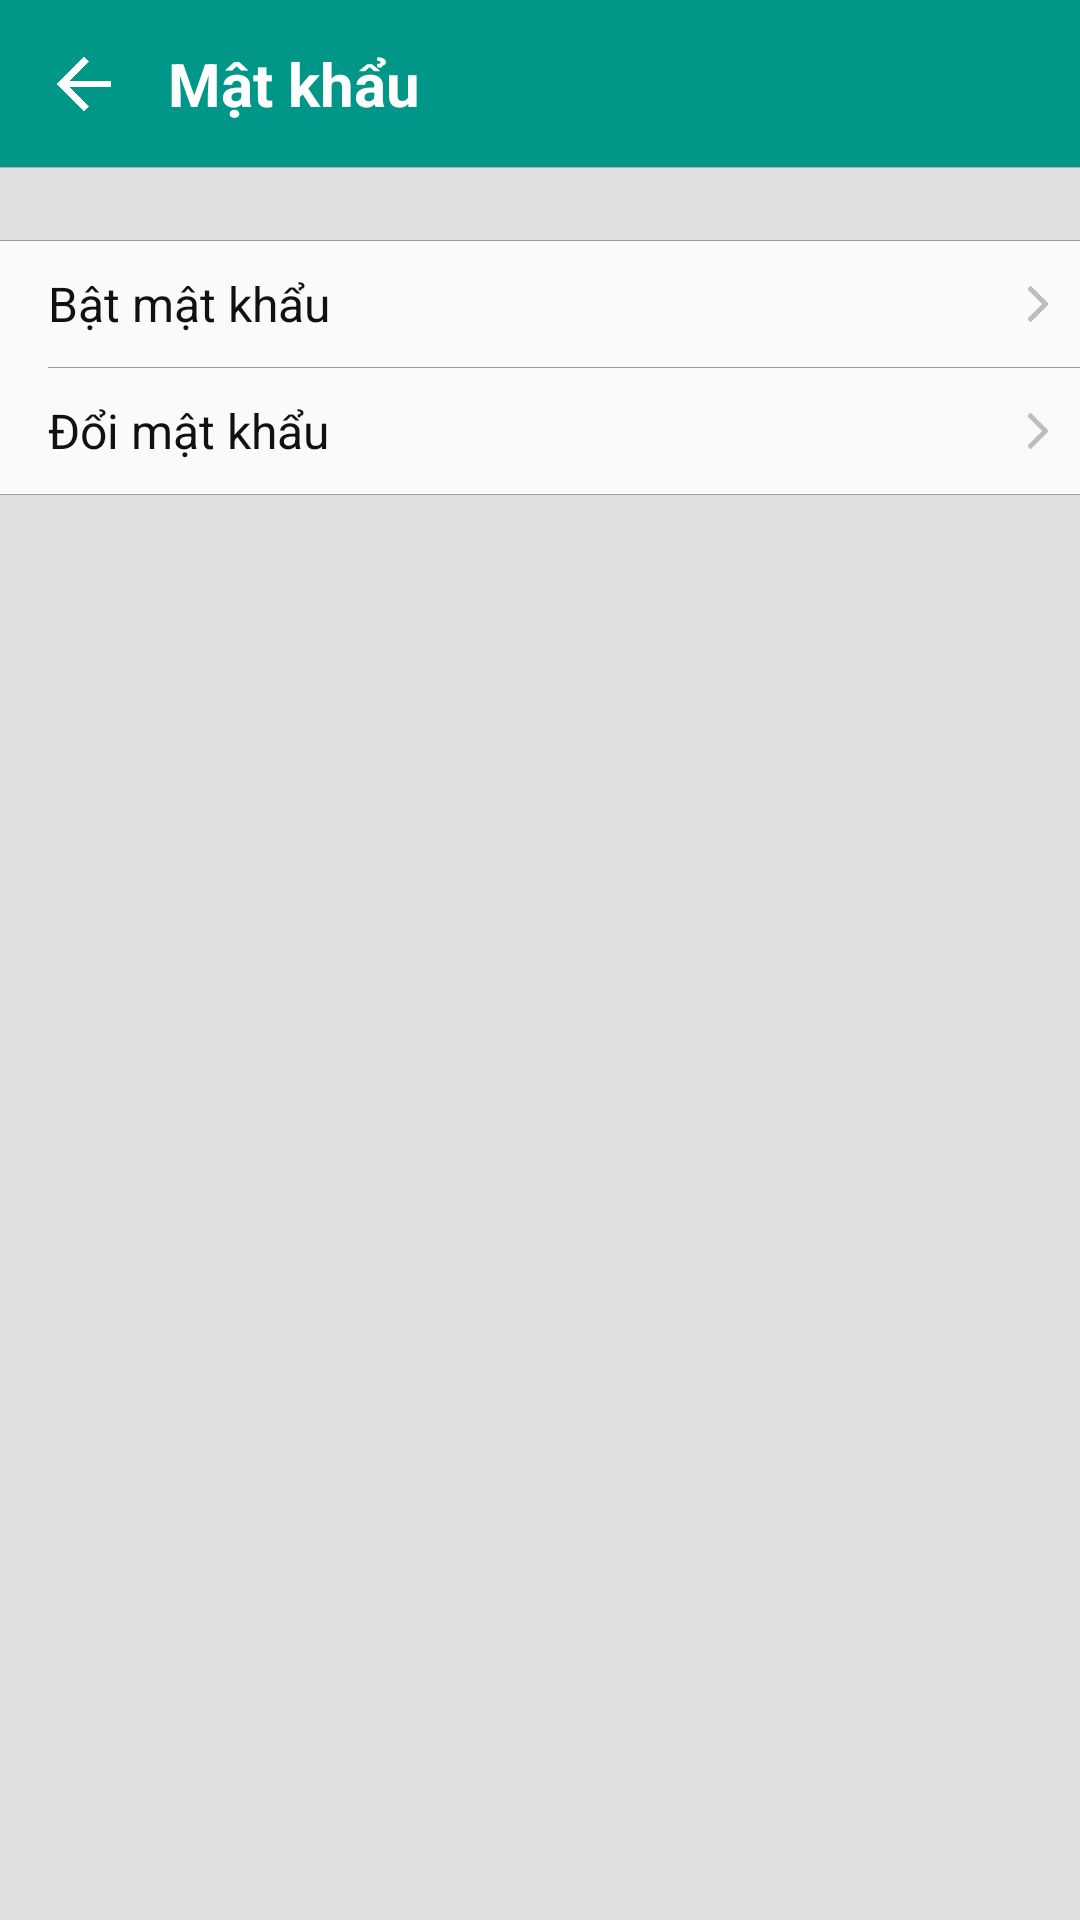

Where to tap for icons on this 1080×1920 app screen, as (x,y):
arrow next: (1038,304), (1038,431)
back: (84,84)
